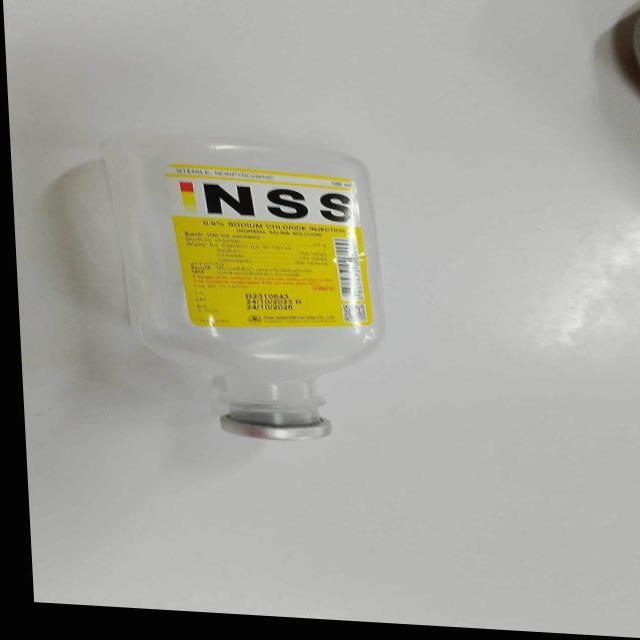General: (163, 161, 373, 331)
Sharps: (99, 135, 386, 442)
